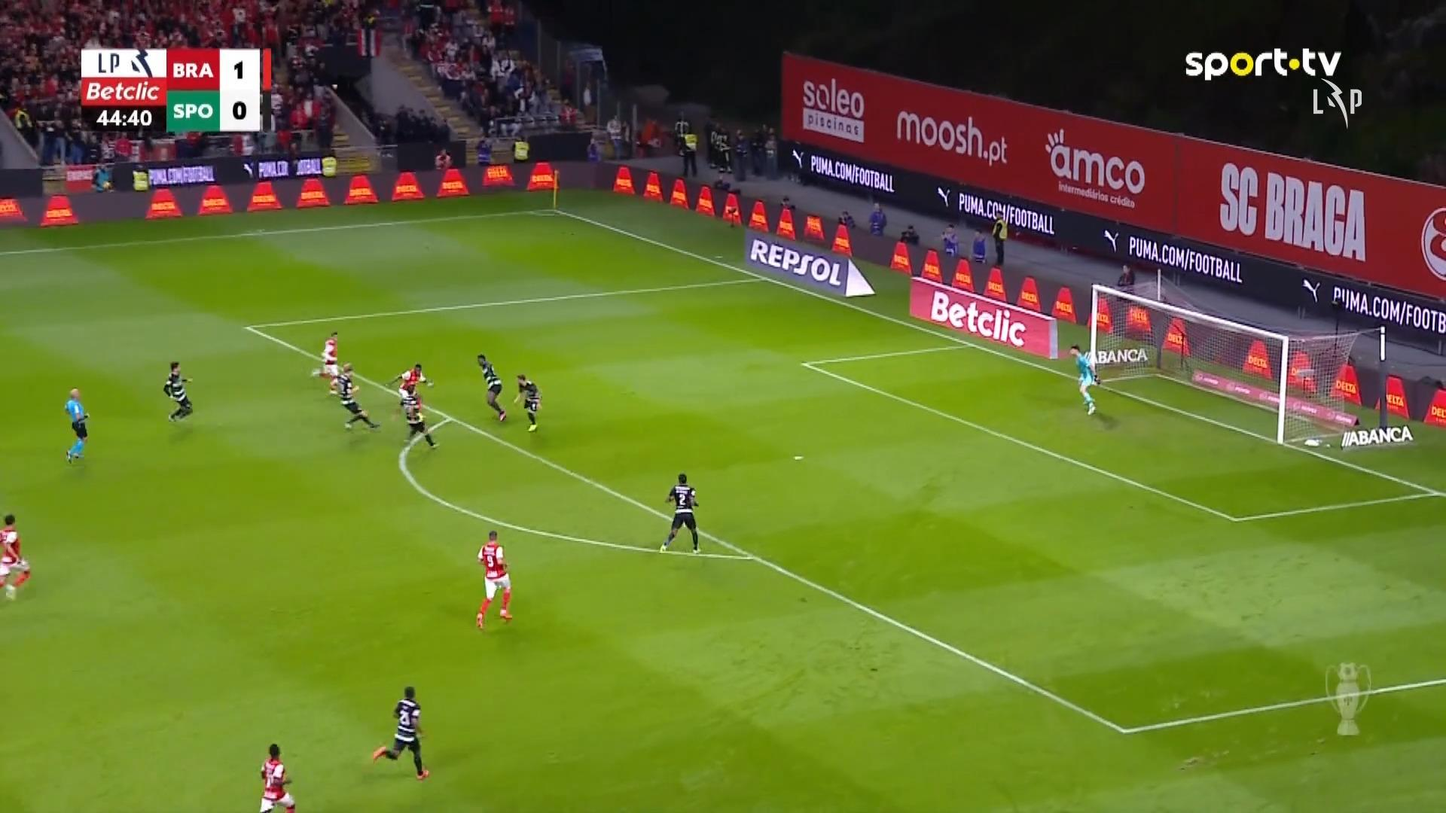goalkeeper: (1069, 343, 1100, 416)
player: (371, 685, 430, 781), (474, 530, 513, 629), (659, 472, 701, 553), (332, 361, 380, 430), (0, 513, 31, 600), (258, 742, 296, 811), (400, 388, 438, 450), (476, 353, 507, 422), (163, 361, 194, 422), (389, 361, 433, 400), (512, 373, 541, 431), (318, 330, 340, 394)
referee: (63, 387, 90, 463)
